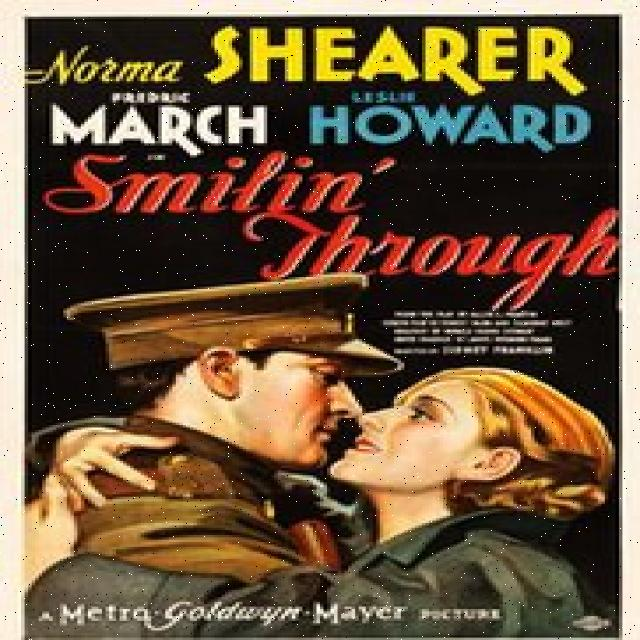movie-judul: (28, 146, 633, 309)
picture: (28, 274, 623, 637)
